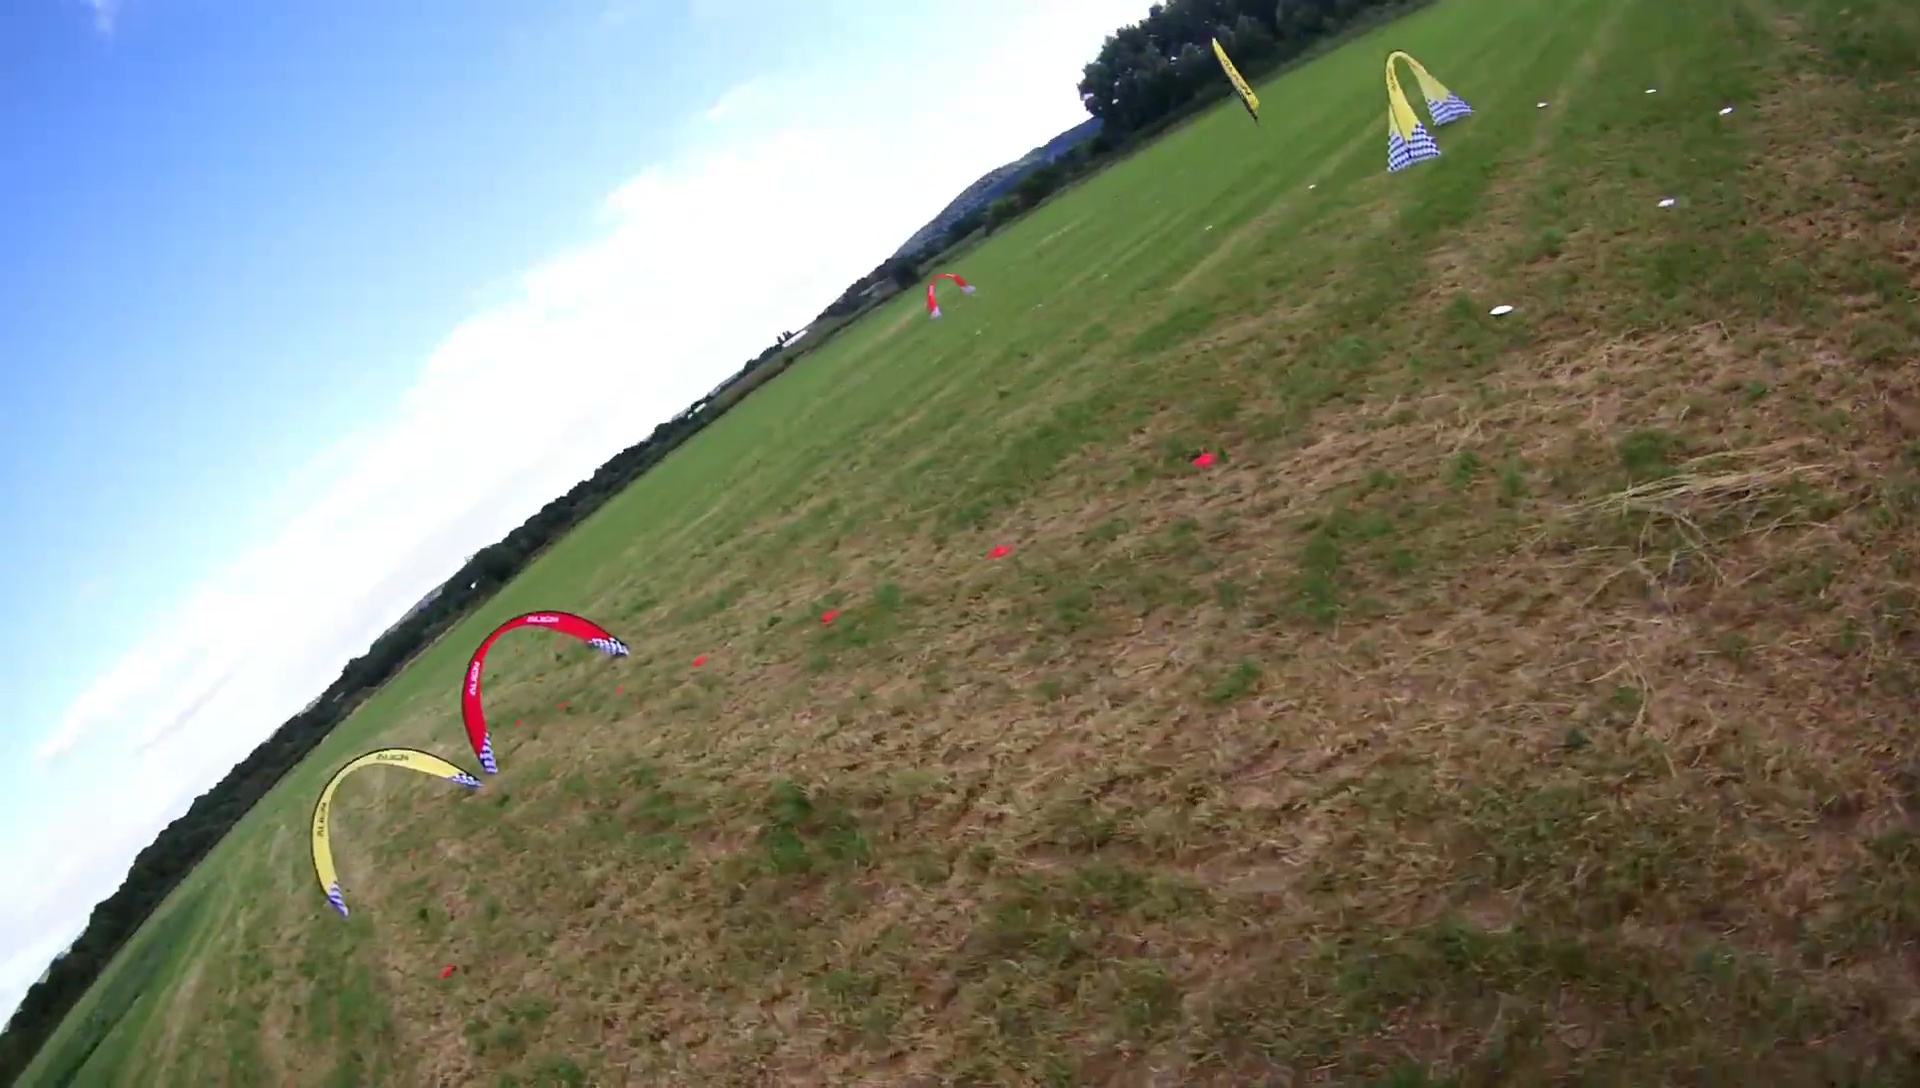gate: (310, 744, 485, 919), (460, 609, 634, 777), (1382, 47, 1472, 171), (924, 270, 975, 319)
